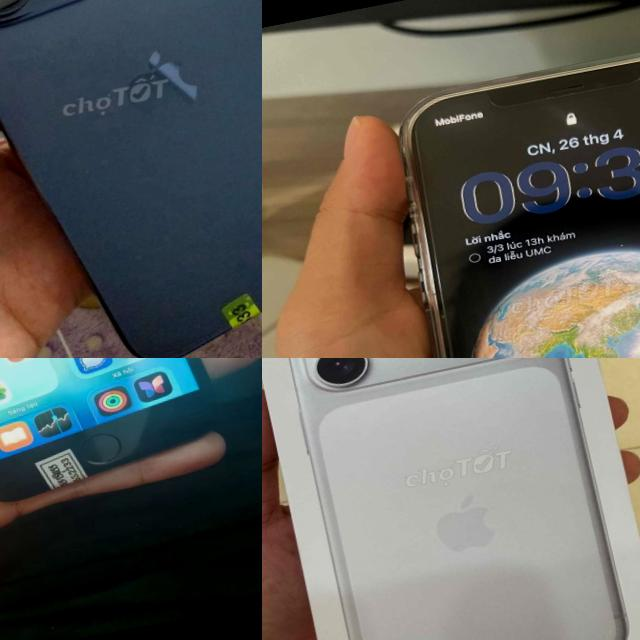gen_12_13: (370, 26, 640, 358)
gen_15: (0, 0, 262, 358)
gen_17: (262, 358, 640, 640)
gen_7_8: (0, 358, 244, 532)
